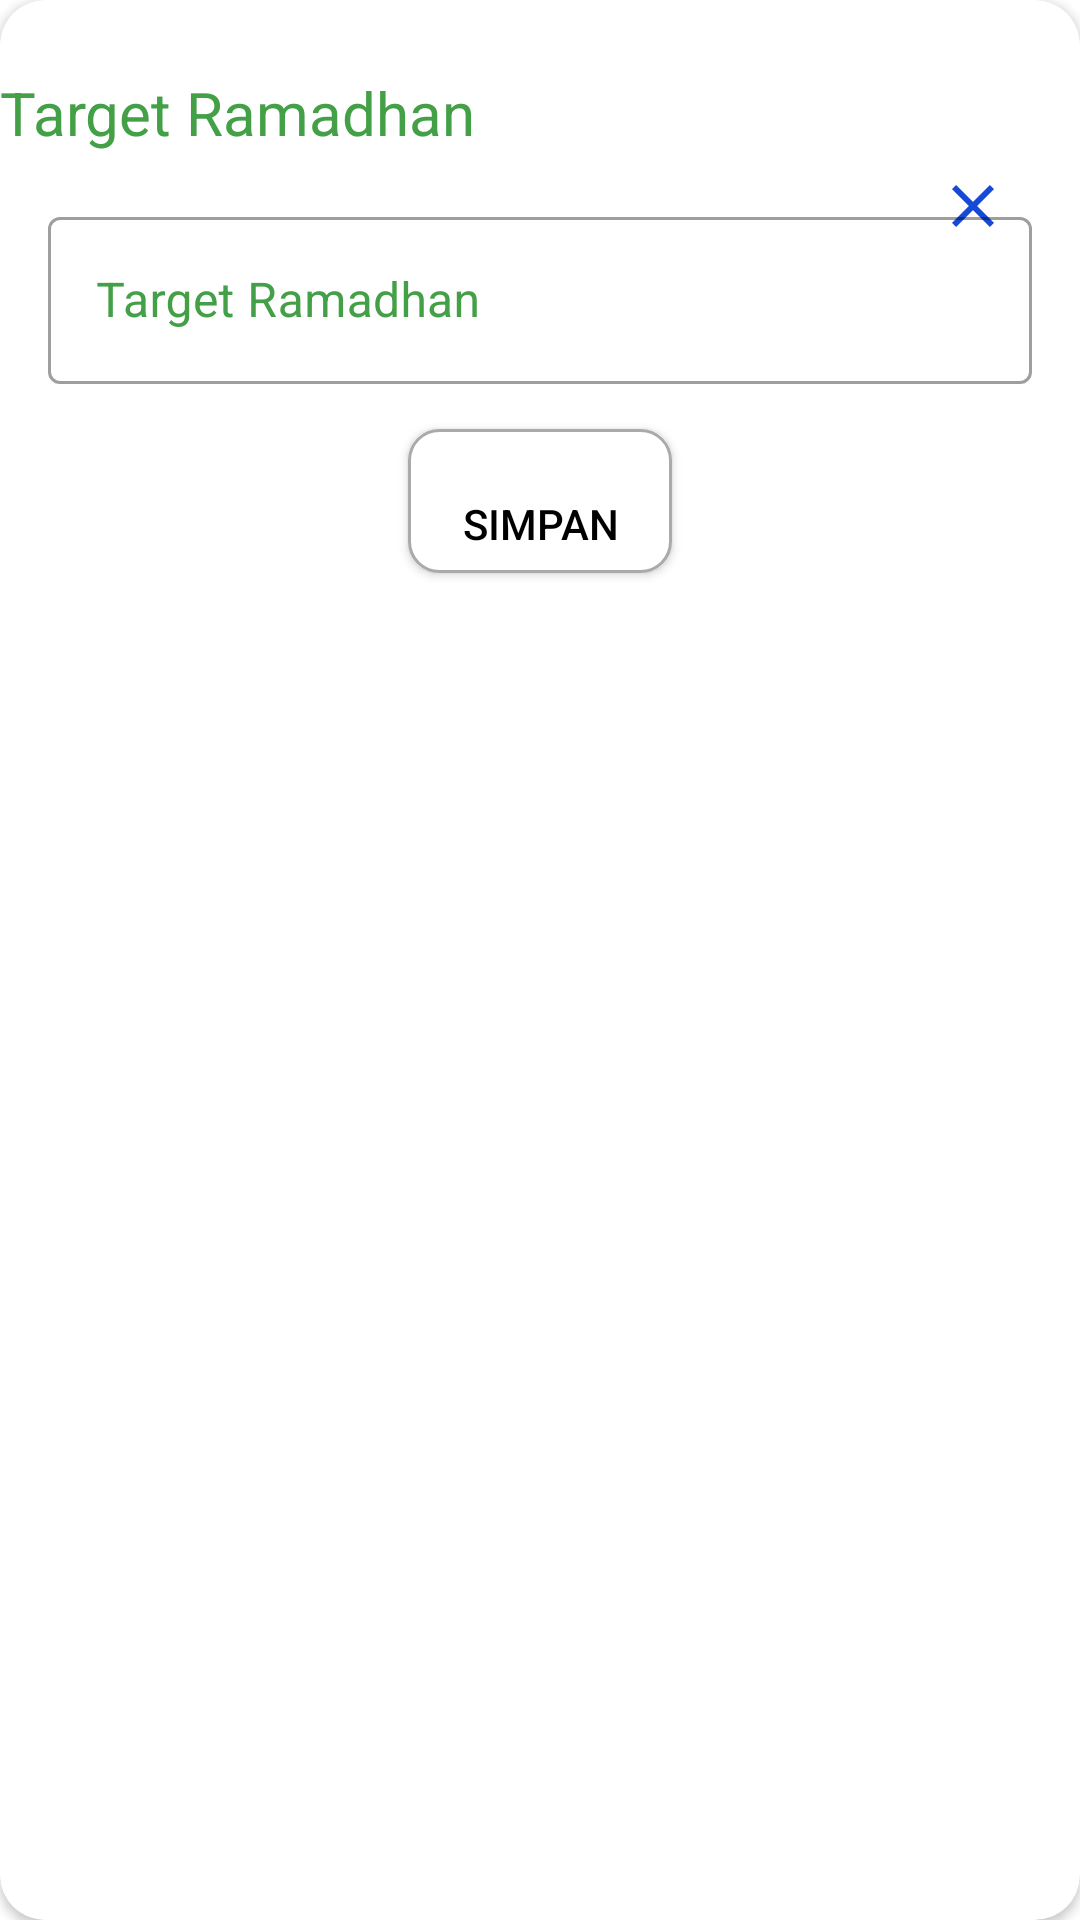

Where icons sit on this 1080×1920 app screen, as (x1, y1, x2, y2):
close: (937, 185, 1009, 227)
